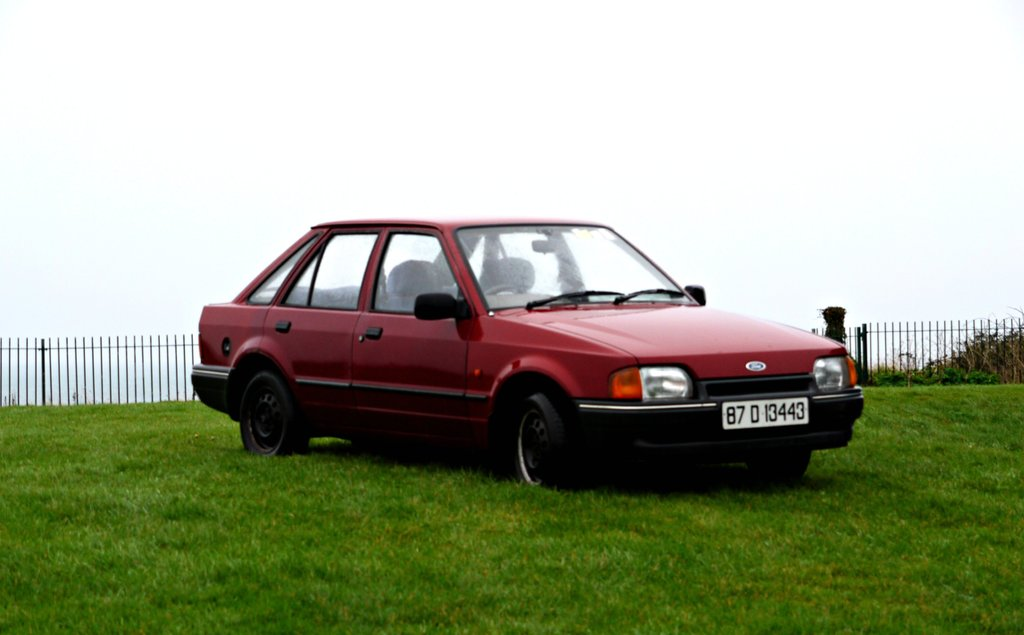Car: (184, 217, 864, 488)
